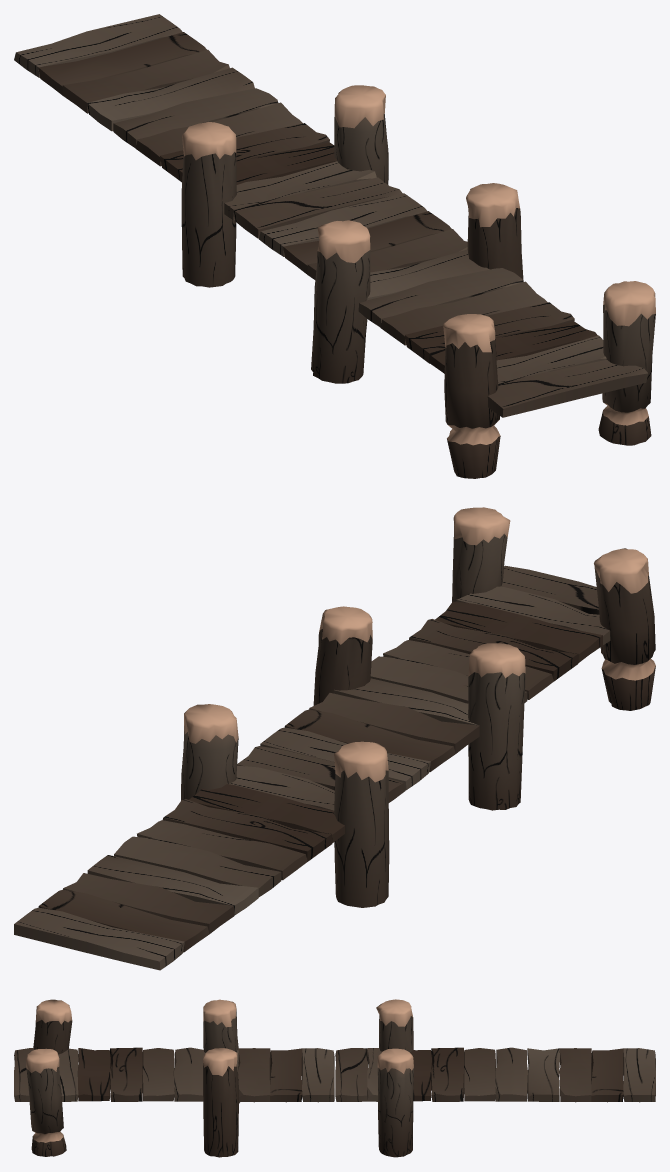
The model's file is Beach_Bridge.fbx.
The picture shows the model from 3 angles, top to bottom: view 1: azimuth 30°, elevation 25°; view 2: azimuth 150°, elevation 25°; view 3: azimuth 270°, elevation 25°; orthographic projection. The views are drawn at different scales.
Visible parts, largest first — view 1: Cube.237, Cube.236, Cylinder.197, Cylinder.195, Cylinder.193, Cylinder.194, Cylinder.196, Cylinder.198; view 2: Cube.237, Cube.236, Cylinder.195, Cylinder.197, Cylinder.193, Cylinder.198, Cylinder.196, Cylinder.194; view 3: Cube.237, Cube.236, Cylinder.196, Cylinder.198, Cylinder.194, Cylinder.193, Cylinder.197, Cylinder.195.
Boxes of the visible parts, <box> form: Cube.237: <box>14,14,402,238</box>; Cube.236: <box>259,193,648,417</box>; Cylinder.197: <box>181,122,236,287</box>; Cylinder.195: <box>311,220,370,383</box>; Cylinder.193: <box>443,314,500,478</box>; Cylinder.194: <box>598,281,655,445</box>; Cylinder.196: <box>466,183,523,281</box>; Cylinder.198: <box>334,85,388,184</box>; Cube.237: <box>14,746,405,970</box>; Cube.236: <box>260,565,610,790</box>; Cylinder.195: <box>468,643,525,810</box>; Cylinder.197: <box>334,741,389,907</box>; Cylinder.193: <box>594,548,655,710</box>; Cylinder.198: <box>181,704,238,800</box>; Cylinder.196: <box>313,606,372,705</box>; Cylinder.194: <box>452,507,510,602</box>; Cube.237: <box>335,1047,655,1102</box>; Cube.236: <box>14,1047,334,1102</box>; Cylinder.196: <box>203,1048,238,1157</box>; Cylinder.198: <box>377,1048,413,1157</box>; Cylinder.194: <box>26,1048,66,1156</box>; Cylinder.193: <box>33,999,72,1054</box>; Cylinder.197: <box>376,999,413,1052</box>; Cylinder.195: <box>203,999,239,1103</box>.
Bounding box in the file's own units: 373 × 257 × 1538.
